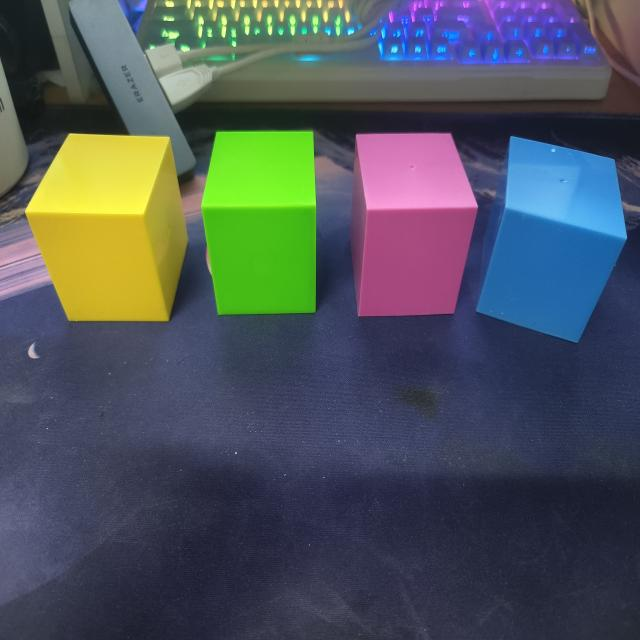blue: (476, 135, 628, 345)
green: (201, 130, 318, 317)
pink: (353, 132, 479, 320)
yellow: (25, 133, 188, 326)
